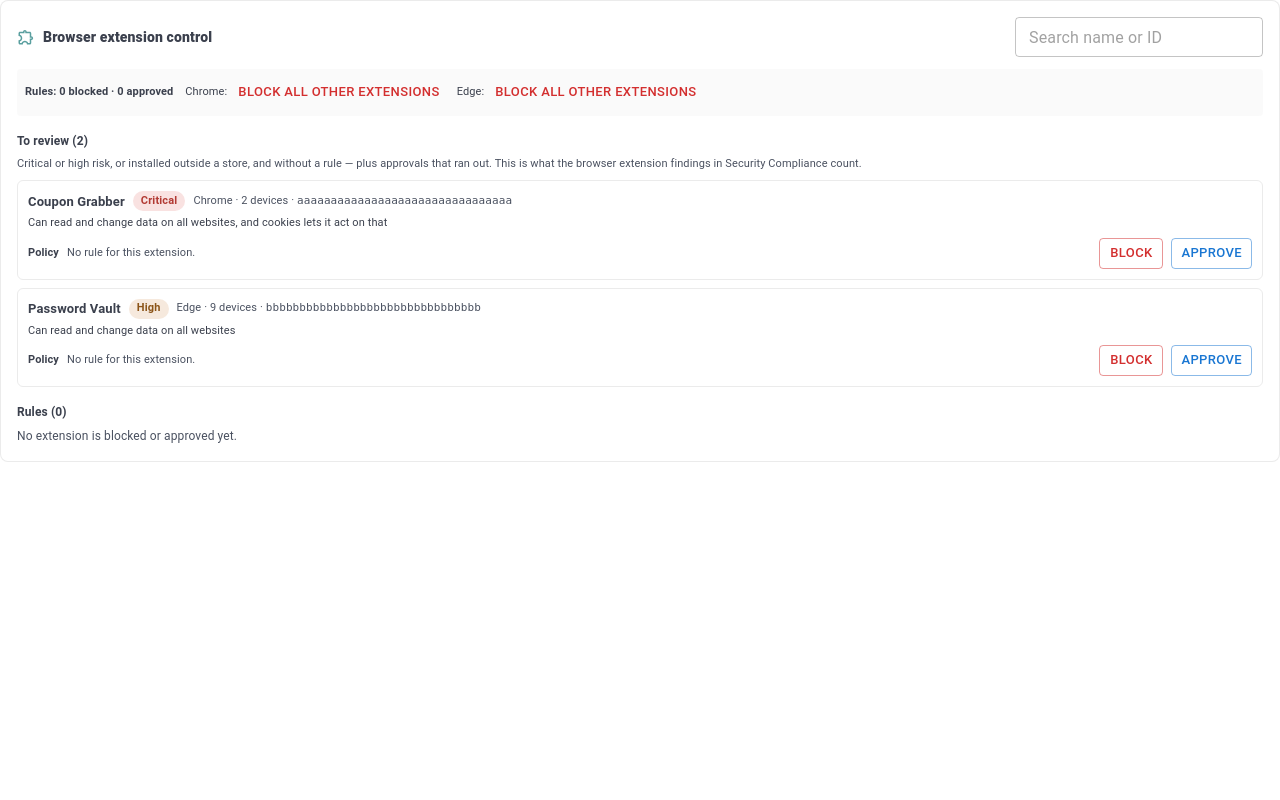
Test: ExtensionControlPanel › 'block all other extensions' warns when nothing is approved yet
This screenshot has width=1280, height=800.
Check: the text "To review (2)" is shown, box [17, 134, 88, 148]
Step 1. Click the 2nd button "Block all other extensions" → (596, 92), box [490, 77, 702, 108]
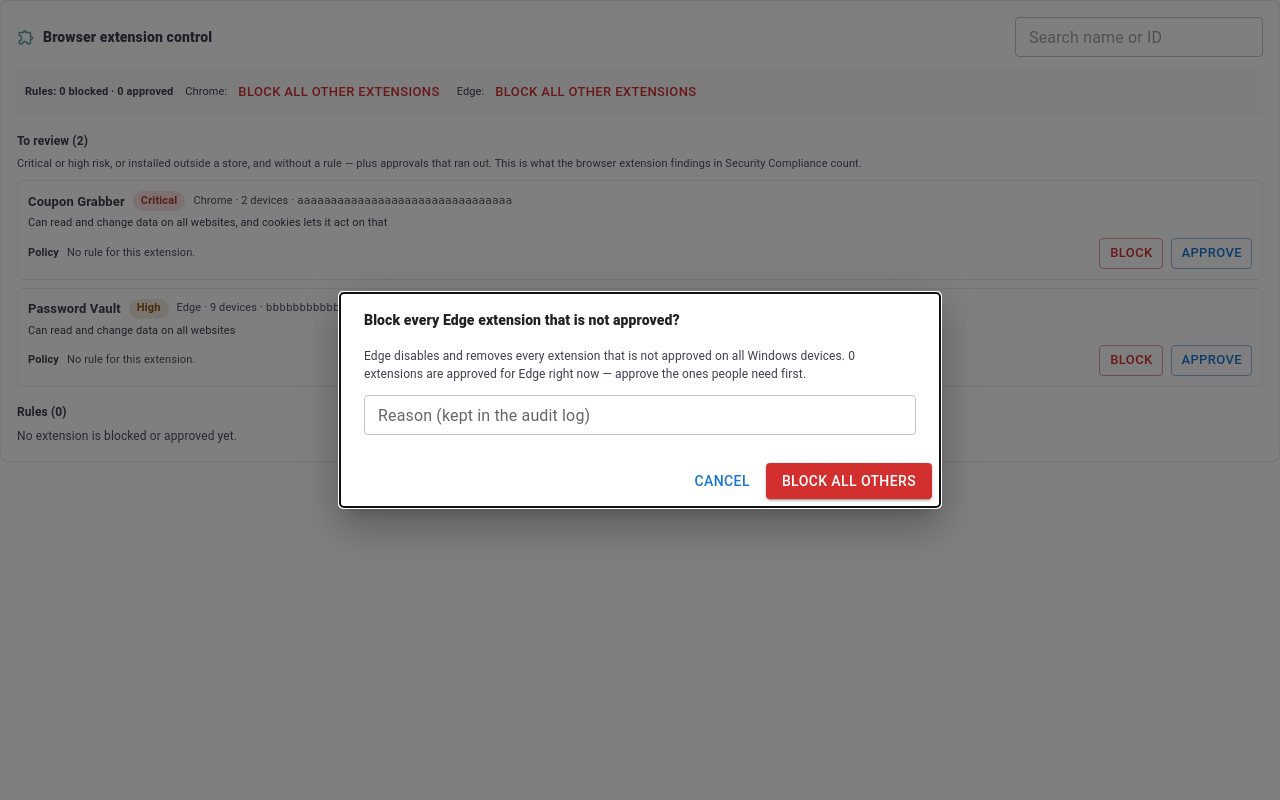
Check: the text "0 extensions are approved for Edge right now — approve the ones people need first" is shown, box [364, 349, 855, 381]
